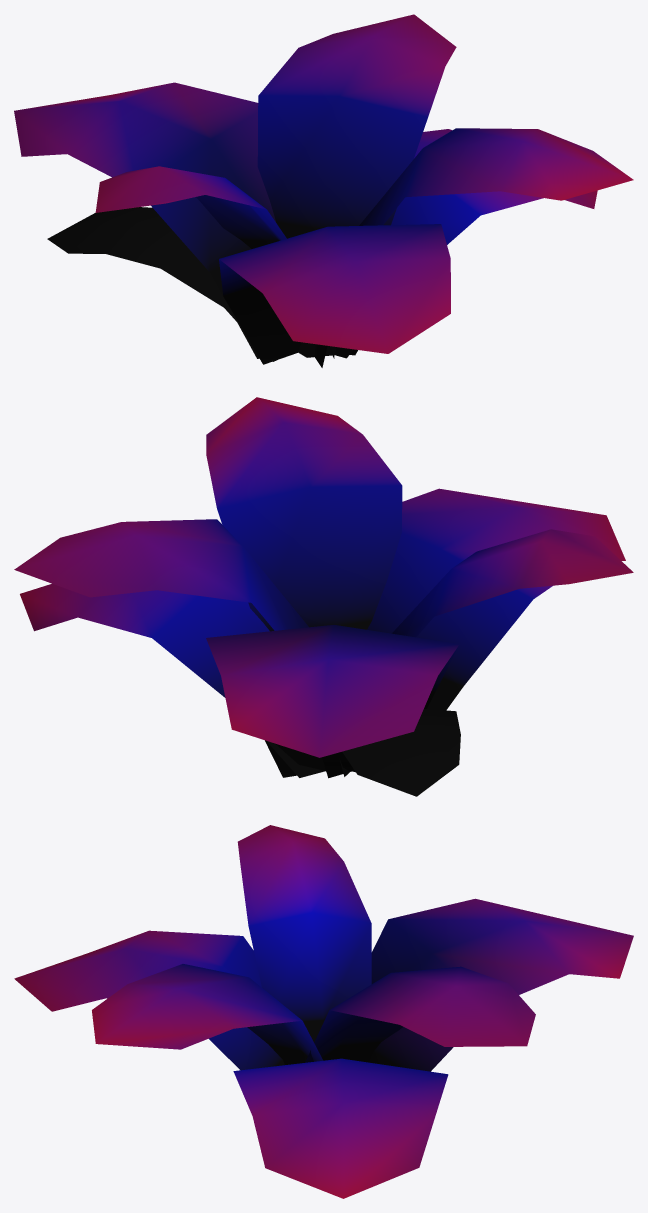
The model's file is env_autumn_fern3.fbx.
3 views of the same model, one above another, from view 1: azimuth 30°, elevation 25°; view 2: azimuth 150°, elevation 25°; view 3: azimuth 270°, elevation 25° (orthographic). The views are drawn at different scales.
Visible parts, largest first — view 1: env_autumn_fern3_geo; view 2: env_autumn_fern3_geo; view 3: env_autumn_fern3_geo.
Part boxes in pixels (x1=…): env_autumn_fern3_geo: x1=14, y1=14, x2=633, y2=367; env_autumn_fern3_geo: x1=14, y1=397, x2=633, y2=796; env_autumn_fern3_geo: x1=14, y1=825, x2=633, y2=1198.
Bounding box in the file's own units: 263 × 111 × 271.
